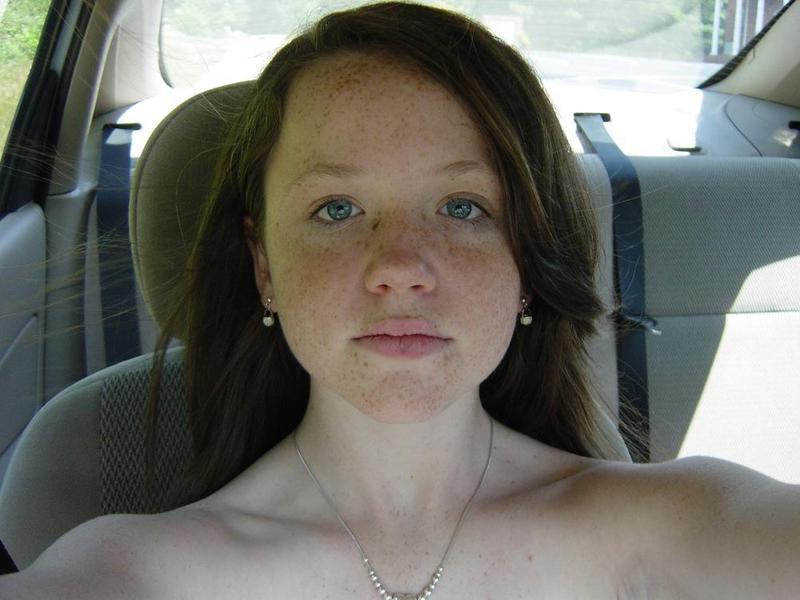person: (20, 4, 797, 600)
